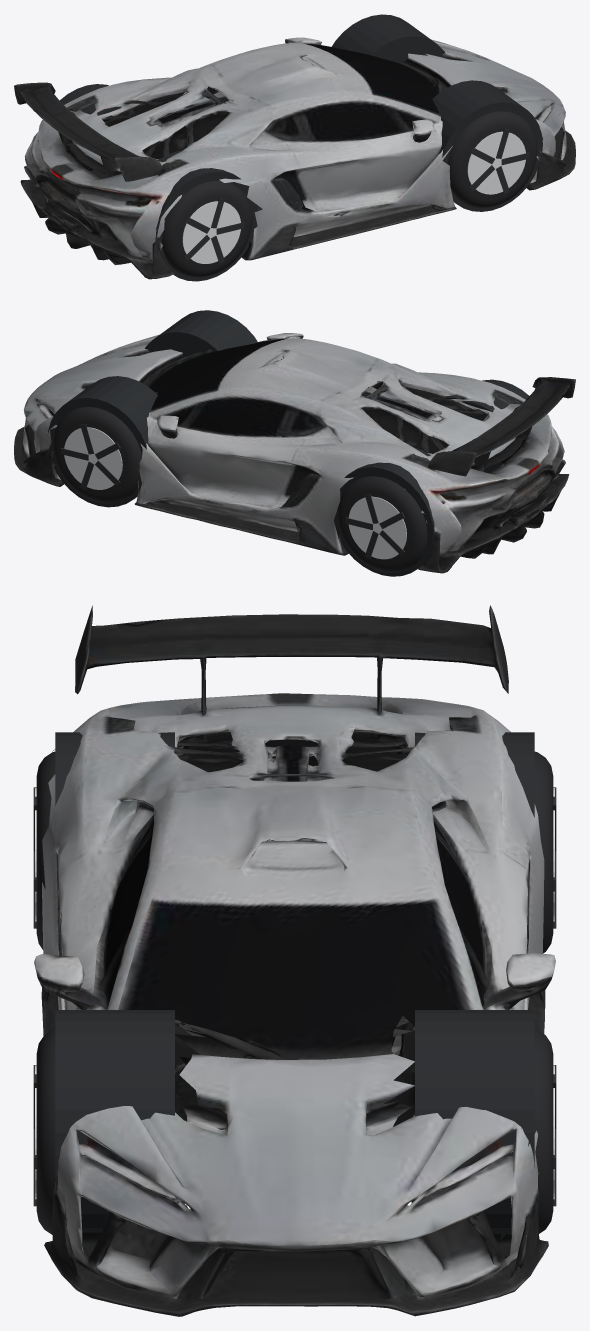
3 renders of one model, top to bottom at view 1: azimuth 30°, elevation 25°; view 2: azimuth 150°, elevation 25°; view 3: azimuth 270°, elevation 25°, orthographic. The views are drawn at different scales.
Parts seen in each view (by area): view 1: Body, Wheel_RR, Wheel_FR, Liner_FR, Liner_FL, Liner_RR, Liner_RL; view 2: Body, Wheel_RL, Wheel_FL, Liner_FL, Liner_FR, Liner_RL, Liner_RR; view 3: Body, Liner_FR, Liner_FL, Wheel_FR, Wheel_FL, Wheel_RL, Wheel_RR, Liner_RL, Liner_RR.
Boxes of the visible parts, left/top/right/bottom form: Body: left=14, top=37, right=575, bottom=279; Wheel_RR: left=162, top=181, right=252, bottom=277; Wheel_FR: left=447, top=111, right=537, bottom=207; Liner_FR: left=432, top=80, right=542, bottom=211; Liner_FL: left=331, top=14, right=445, bottom=63; Liner_RR: left=155, top=150, right=257, bottom=281; Liner_RL: left=59, top=84, right=121, bottom=178; Body: left=14, top=333, right=575, bottom=573; Wheel_RL: left=337, top=476, right=427, bottom=572; Wheel_FL: left=53, top=407, right=141, bottom=503; Liner_FL: left=47, top=376, right=157, bottom=507; Liner_FR: left=143, top=310, right=257, bottom=357; Liner_RL: left=334, top=447, right=444, bottom=576; Liner_RR: left=461, top=379, right=528, bottom=473; Body: left=34, top=605, right=555, bottom=1316; Liner_FR: left=55, top=1010, right=174, bottom=1232; Liner_FL: left=415, top=1010, right=534, bottom=1239; Wheel_FR: left=33, top=1029, right=55, bottom=1234; Wheel_FL: left=534, top=1029, right=556, bottom=1233; Wheel_RL: left=534, top=751, right=556, bottom=953; Wheel_RR: left=33, top=751, right=55, bottom=949; Liner_RL: left=415, top=732, right=534, bottom=817; Liner_RR: left=55, top=732, right=174, bottom=806.
Bounding box in the file's own units: 2.14 × 0.5633 × 0.9771.
5 materials, 1 textured.
